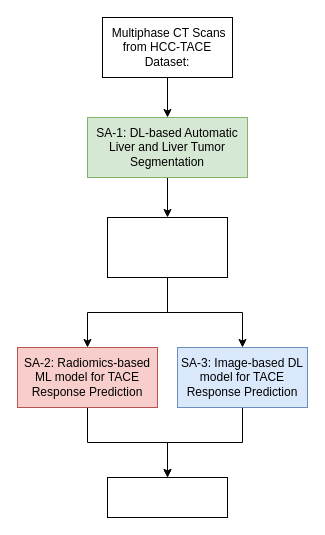
This 325x535 diagram has some shape labels left out. Here are the shapes that lost their labels. From the top down, the centre of each, then its label:
the point at 167,247: Segmented Liver and Liver Tumor Volumes
the point at 167,497: Predicted Response CR, PR, SD, PD
